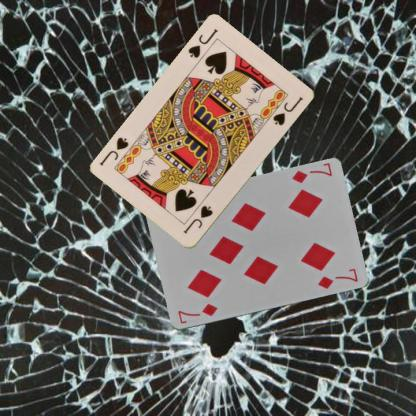7d: (289, 161, 333, 185), (175, 301, 218, 325)
Js: (185, 26, 219, 60), (180, 203, 214, 236)
